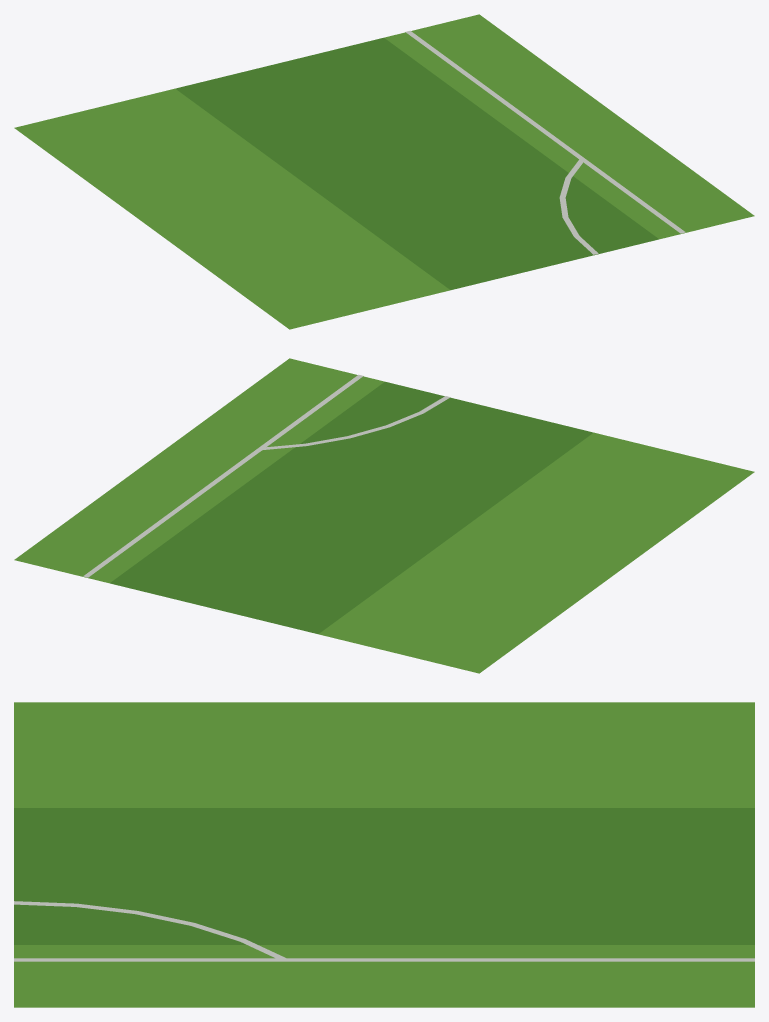
File: pitch_4_1.glb
The picture shows the model from 3 angles, top to bottom: view 1: azimuth 30°, elevation 25°; view 2: azimuth 150°, elevation 25°; view 3: azimuth 270°, elevation 25°; orthographic projection. The views are drawn at different scales.
Visible parts, largest first — view 1: pitch_4_1; view 2: pitch_4_1; view 3: pitch_4_1.
Boxes of the visible parts, left/top/right/bottom form: pitch_4_1: left=14, top=14, right=754, bottom=329; pitch_4_1: left=14, top=358, right=754, bottom=673; pitch_4_1: left=14, top=702, right=754, bottom=1007.
Size of the model in its own units: 19.5 by 0.02 by 20.
